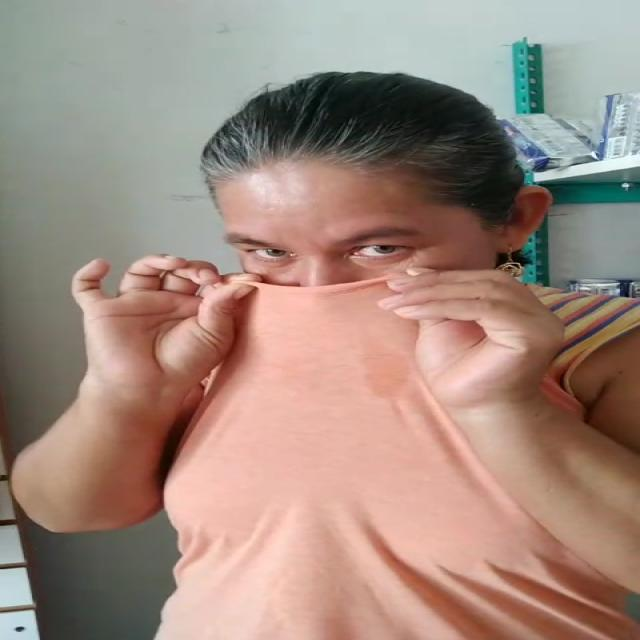8_ropa_rostro: (107, 252, 522, 411)
